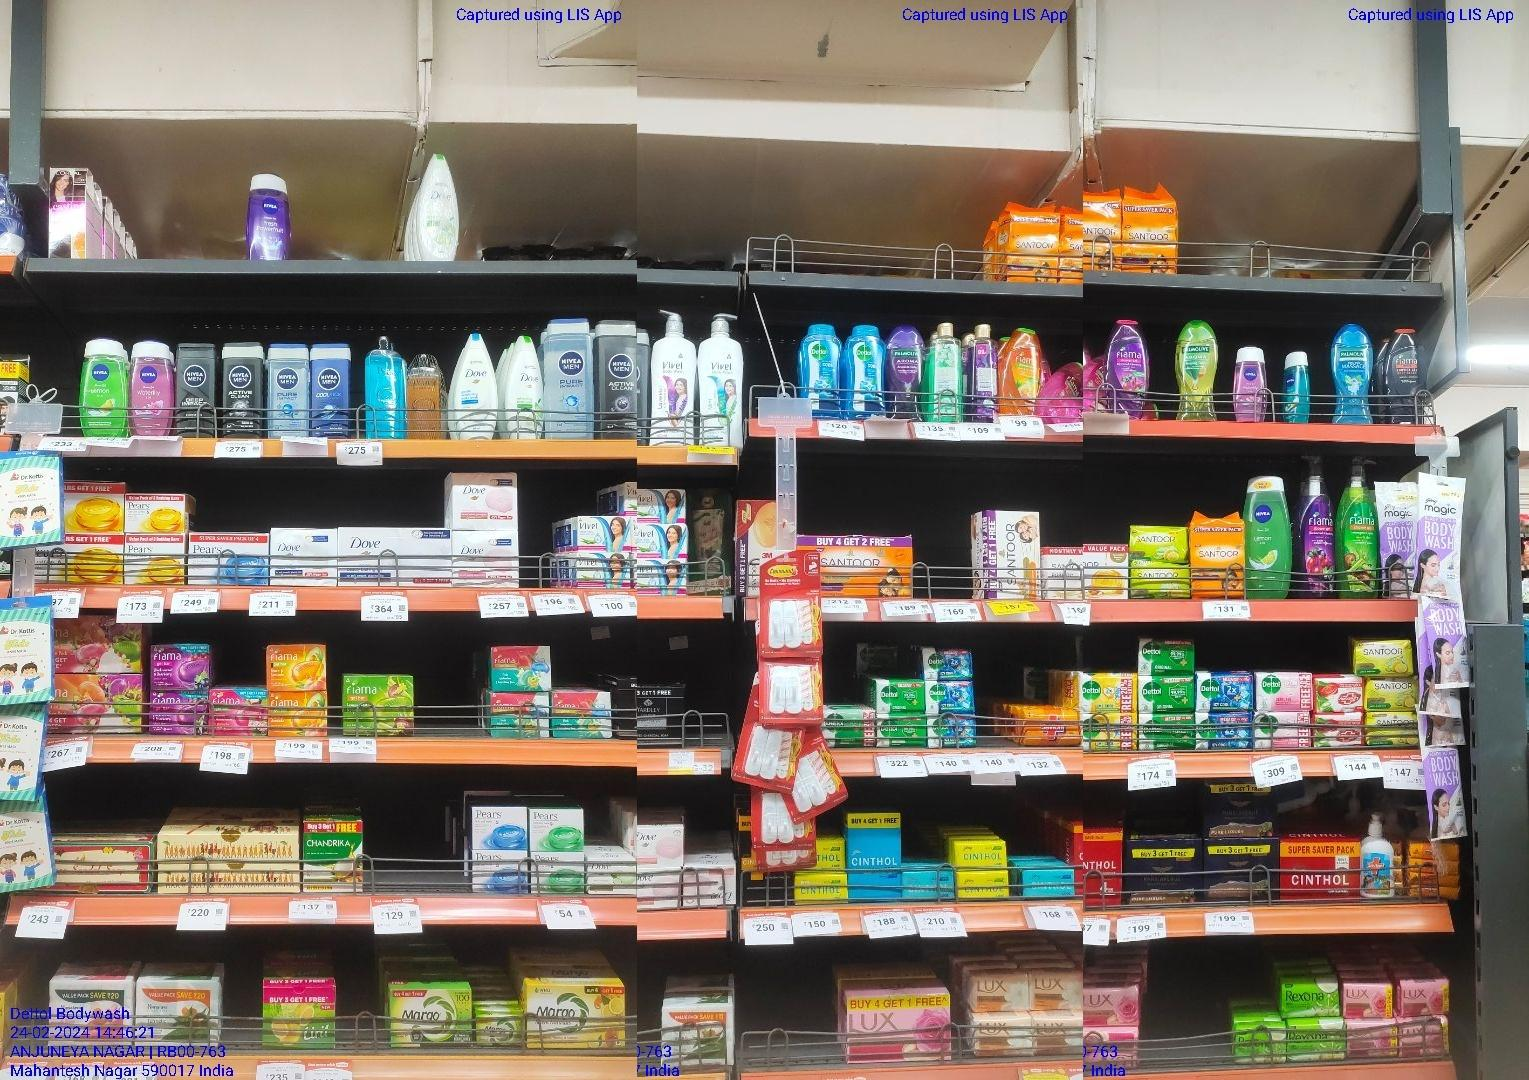Dettol_Bodywash_Cool: (845, 325, 888, 417), (798, 321, 840, 401)
Dove_Deep_Moisture_Body_Wash_250ML: (449, 327, 497, 439)
Dove_Refreshing_Body_Wash_250ML: (504, 332, 544, 439)
Fiama_Shower_Gel_Peach_and_Avocado_250ML: (1002, 324, 1040, 411)
Lux_Black_Orchid_Scent_and_Juniper_Oil_Body_Wash_245ML: (969, 319, 1001, 414)
Lux_Body_Wash_Skin_Detox_Freesia_Scent_and_Alove_Vera_245ML: (928, 323, 963, 422)
Nivea_Shower_Gel_Fresh_Powerfruit_250ML: (245, 172, 292, 258)
Nivea_Shower_Gel_Lemon_and_Oil_250ML: (1246, 478, 1292, 601), (78, 335, 129, 438)
Nivea_Shower_Gel_Waterlily_and_Oil_250ML: (132, 341, 172, 436)
Palmolive_Aroma_Moments_Feel_The_Massage_Shower_Gel_250ML: (1330, 317, 1381, 424)
Palmolive_Aroma_Morning_Tonic_Shower_Gel_250ML: (1172, 318, 1217, 422)
Palmolive_Aroma_Relax_250ML: (892, 325, 923, 421)
Pears_Pure_Glycerin_and_Mint_Extracts_Body_Wash_250ML: (365, 334, 407, 438)
